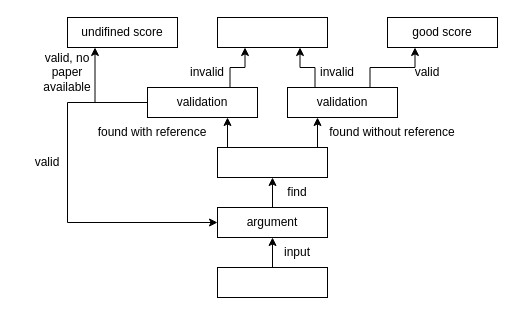
This 515x315 diagram has some shape labels left out. Each missing label, with the box of its shape:
bad score: (216, 16, 328, 48)
base paper: (216, 266, 328, 298)
occurency: (216, 146, 328, 178)
